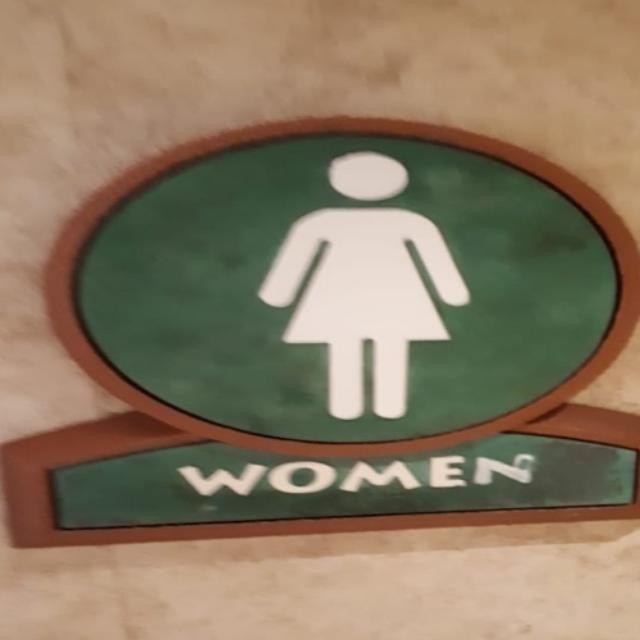wc nu: (4, 116, 637, 545)
